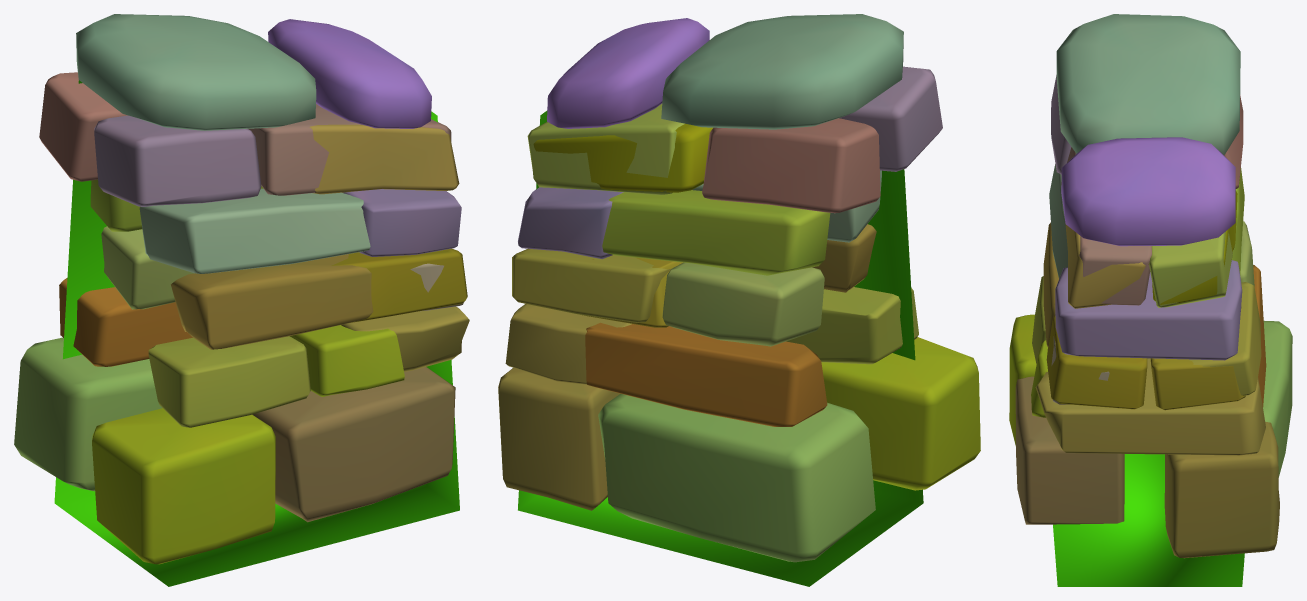
Rendered from SM_Prop_wall_end_12.glb.
The picture shows the model from 3 angles, left to right: view 1: azimuth 30°, elevation 25°; view 2: azimuth 150°, elevation 25°; view 3: azimuth 270°, elevation 25°; orthographic projection. The views are drawn at different scales.
Parts seen in each view (by area): view 1: SM_Prop_wall_end_12; view 2: SM_Prop_wall_end_12; view 3: SM_Prop_wall_end_12.
Boxes of the visible parts, x1=… form: SM_Prop_wall_end_12: x1=14, y1=14, x2=469, y2=586; SM_Prop_wall_end_12: x1=498, y1=14, x2=980, y2=586; SM_Prop_wall_end_12: x1=1009, y1=14, x2=1292, y2=586.
Bounding box in the file's own units: 1.14 × 1.54 × 0.8856.
